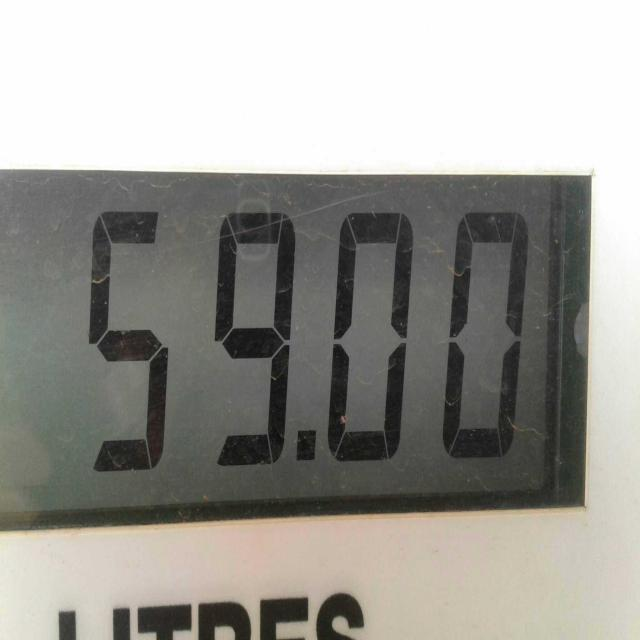.: (289, 416, 324, 490)
0: (436, 205, 538, 485), (318, 204, 426, 468)
5: (63, 201, 183, 504)
9: (199, 206, 304, 488)
